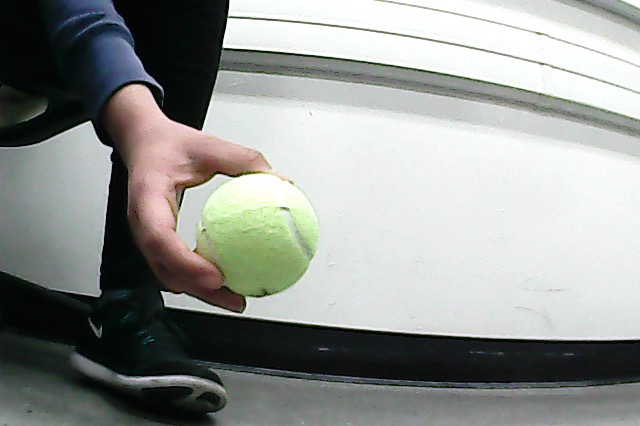ball: (196, 170, 323, 300)
